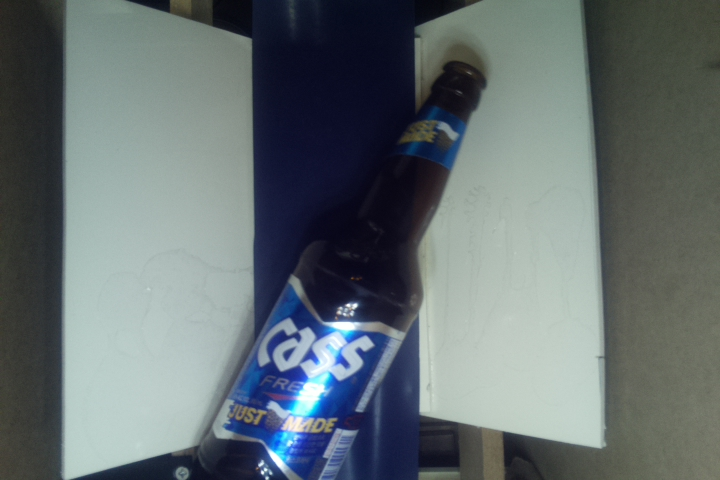makju: (187, 63, 488, 480)
